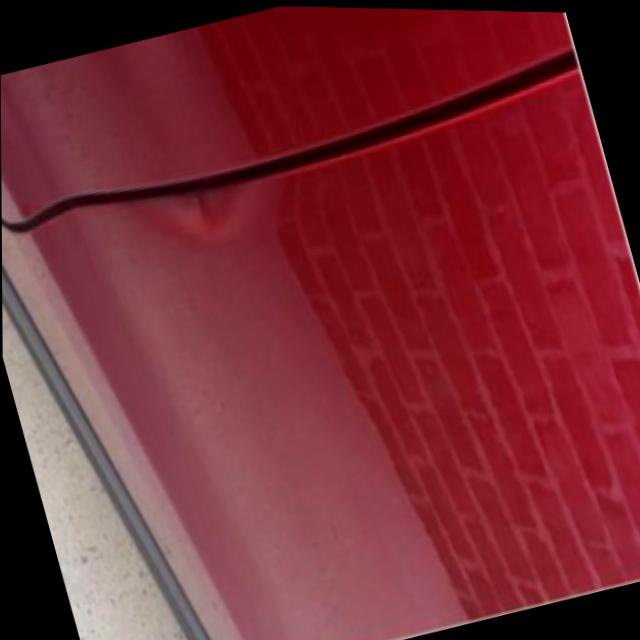Dent: (139, 174, 250, 245)
